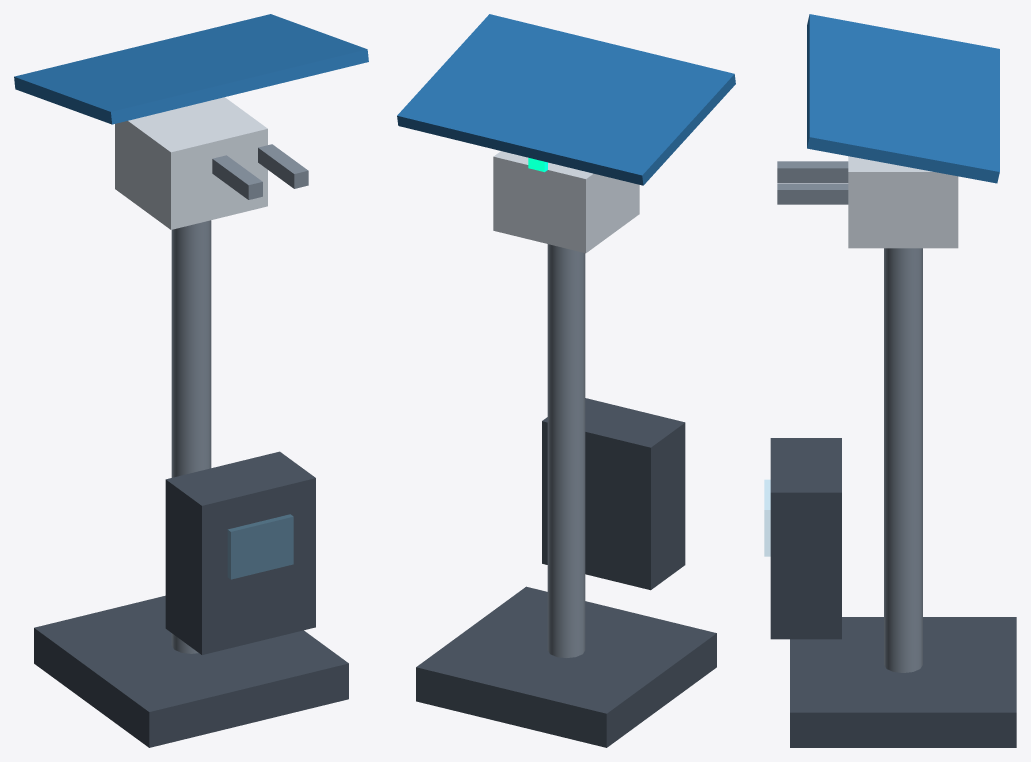
The model's file is equipment.glb.
3 renders of one model, left to right at view 1: azimuth 30°, elevation 25°; view 2: azimuth 150°, elevation 25°; view 3: azimuth 270°, elevation 25°, orthographic. The views are drawn at different scales.
Visible parts, largest first — view 1: Base, ControlBox, SolarPanel, SensorHead_Housing, Pole, ControlBox_Screen, SensorHead_TempProbe, SensorHead_HumidityProbe; view 2: SolarPanel, Base, ControlBox, Pole, SensorHead_Housing; view 3: Base, SolarPanel, Pole, ControlBox, SensorHead_Housing, SensorHead_TempProbe, SensorHead_HumidityProbe, ControlBox_Screen.
Part boxes in pixels (x1,y1,x2,y2): Base: (34, 595, 348, 747); ControlBox: (165, 451, 315, 654); SolarPanel: (14, 14, 368, 124); SensorHead_Housing: (115, 97, 267, 229); Pole: (171, 220, 211, 653); ControlBox_Screen: (228, 514, 293, 579); SensorHead_TempProbe: (212, 155, 262, 199); SensorHead_HumidityProbe: (258, 144, 308, 188); SolarPanel: (397, 14, 735, 185); Base: (416, 586, 716, 747); ControlBox: (542, 398, 685, 590); Pole: (547, 244, 585, 657); SensorHead_Housing: (493, 151, 639, 253); Base: (790, 617, 1016, 747); SolarPanel: (807, 14, 999, 183); Pole: (884, 248, 922, 672); ControlBox: (770, 438, 841, 639); SensorHead_Housing: (848, 156, 958, 248); SensorHead_TempProbe: (777, 161, 848, 182); SensorHead_HumidityProbe: (777, 183, 848, 204); ControlBox_Screen: (764, 480, 770, 556).
Size of the model in its own units: 0.9 by 2.13 by 0.78.
